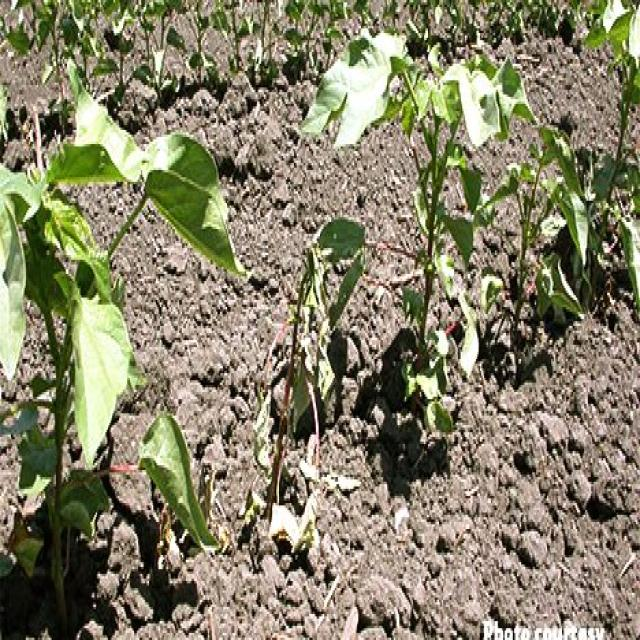Fusarium Wilt: (12, 7, 621, 640)
